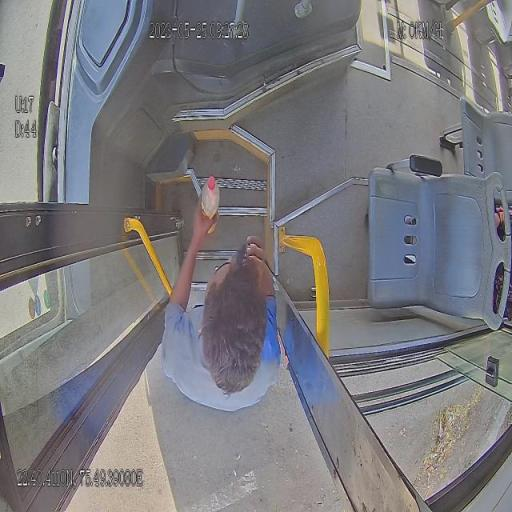persona: (161, 175, 279, 403)
